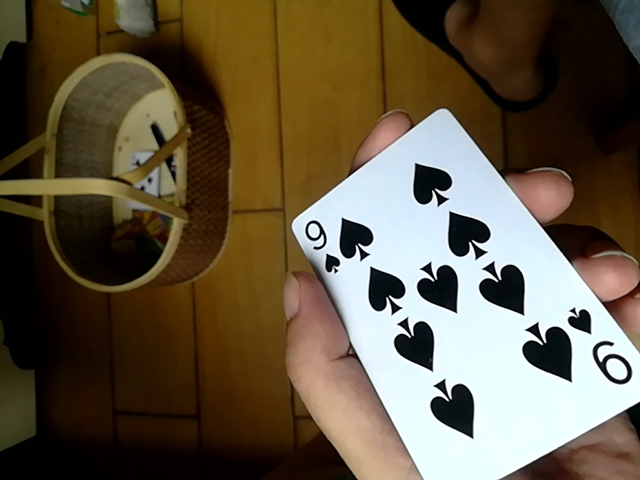ht 9: (287, 103, 635, 478)
